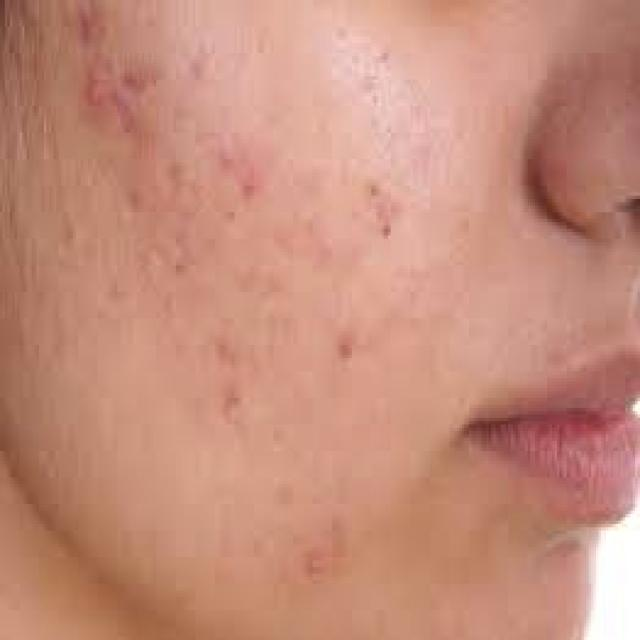Acne: (114, 63, 164, 134), (216, 137, 268, 197), (364, 172, 407, 242), (207, 316, 243, 379), (325, 318, 364, 376), (78, 61, 112, 121), (295, 538, 333, 590), (68, 0, 108, 47)
